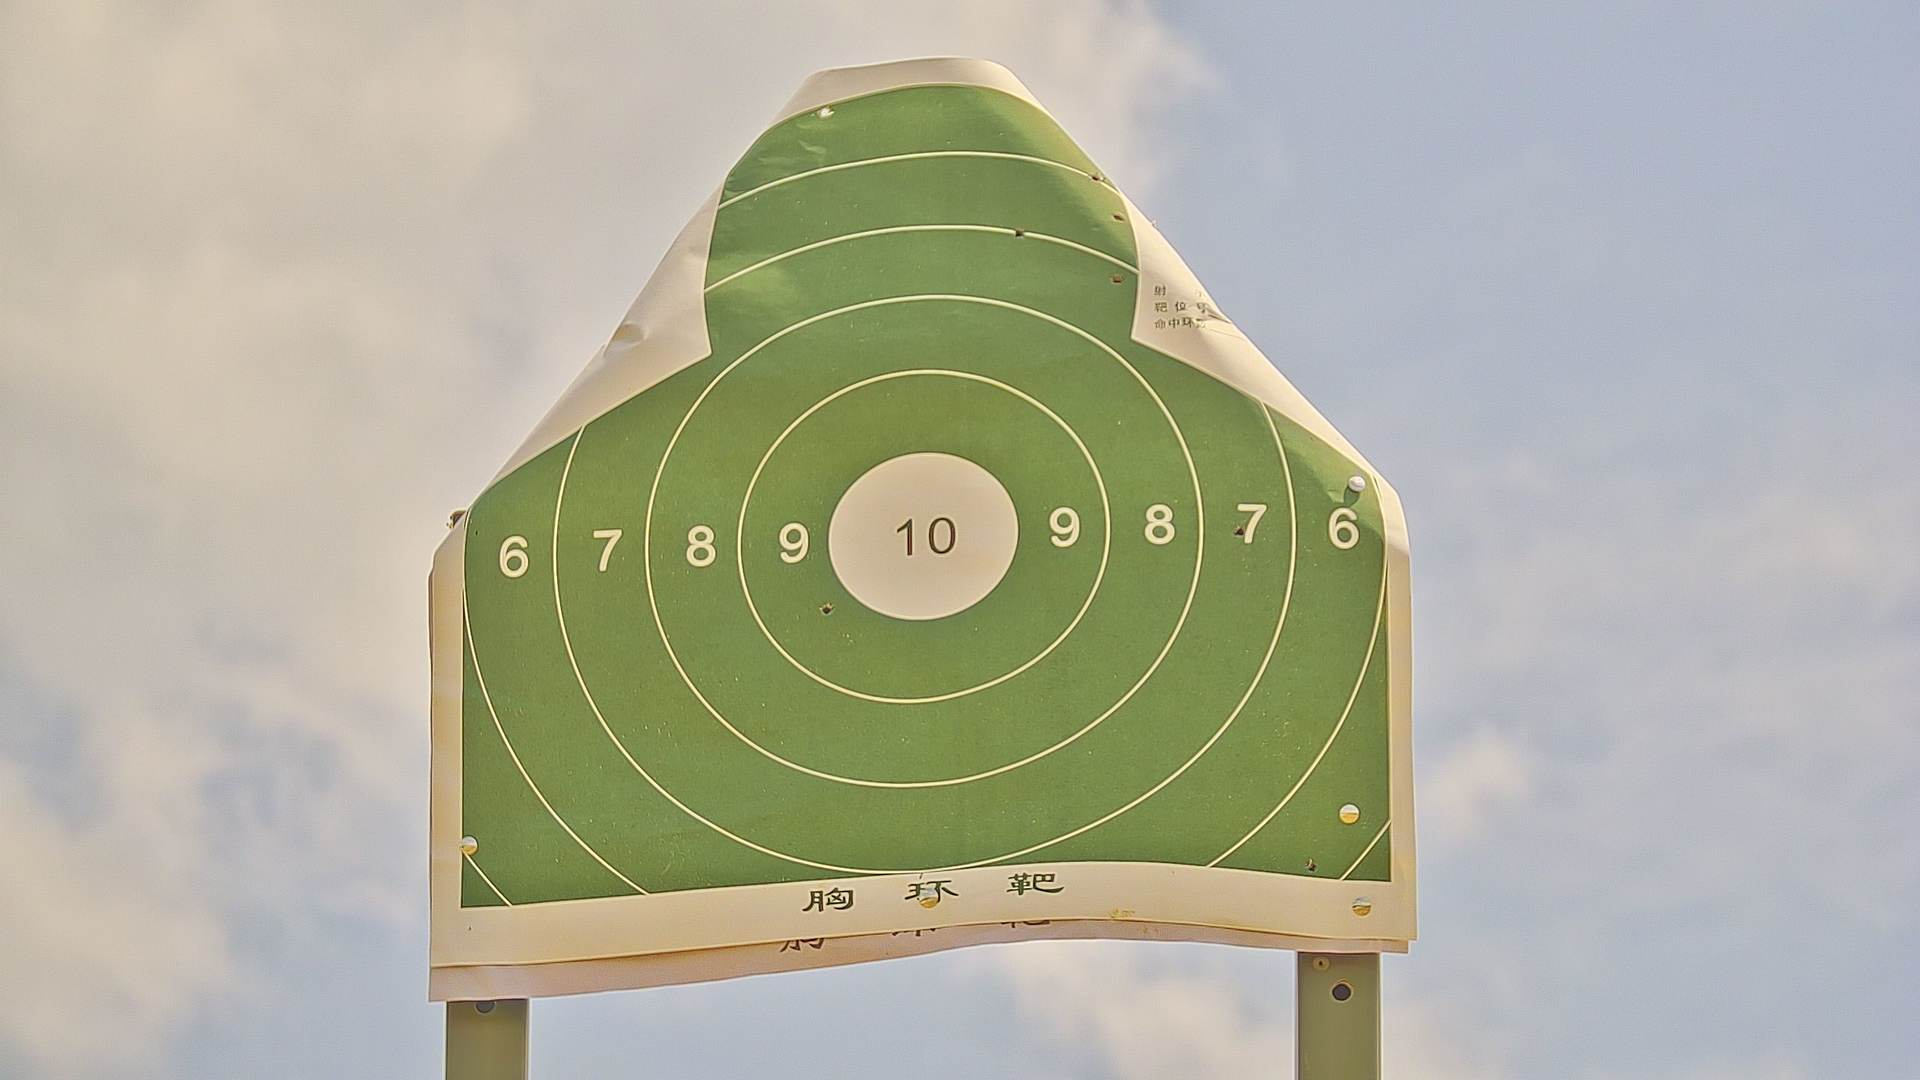hole: (1230, 520, 1258, 543), (814, 596, 833, 624), (1106, 268, 1124, 290), (1106, 207, 1125, 225), (1087, 167, 1106, 185), (1300, 857, 1321, 872), (814, 108, 843, 119), (1010, 225, 1027, 239)
kernel: (911, 530, 927, 541)
target: (459, 90, 1398, 907)
ten: (829, 448, 1021, 626)
